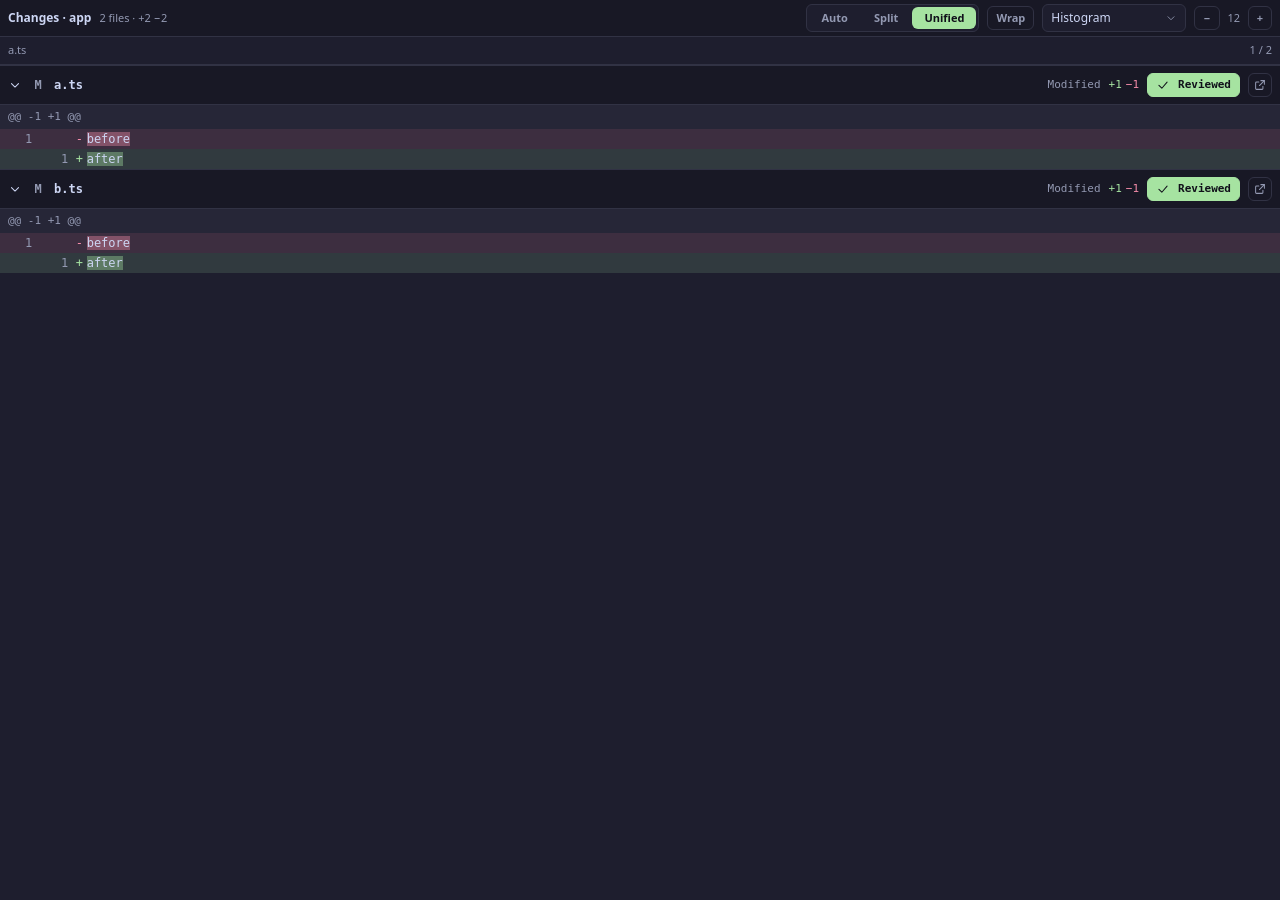
Undo › says so when Undo is no longer available
This screenshot has width=1280, height=900.
Expected: the list with test id "review-list" is shown, [0,65,1279,273]
Click the 1st button with test id "review-file-reviewed".
click(1194, 85)  # box [1147,73,1240,97]
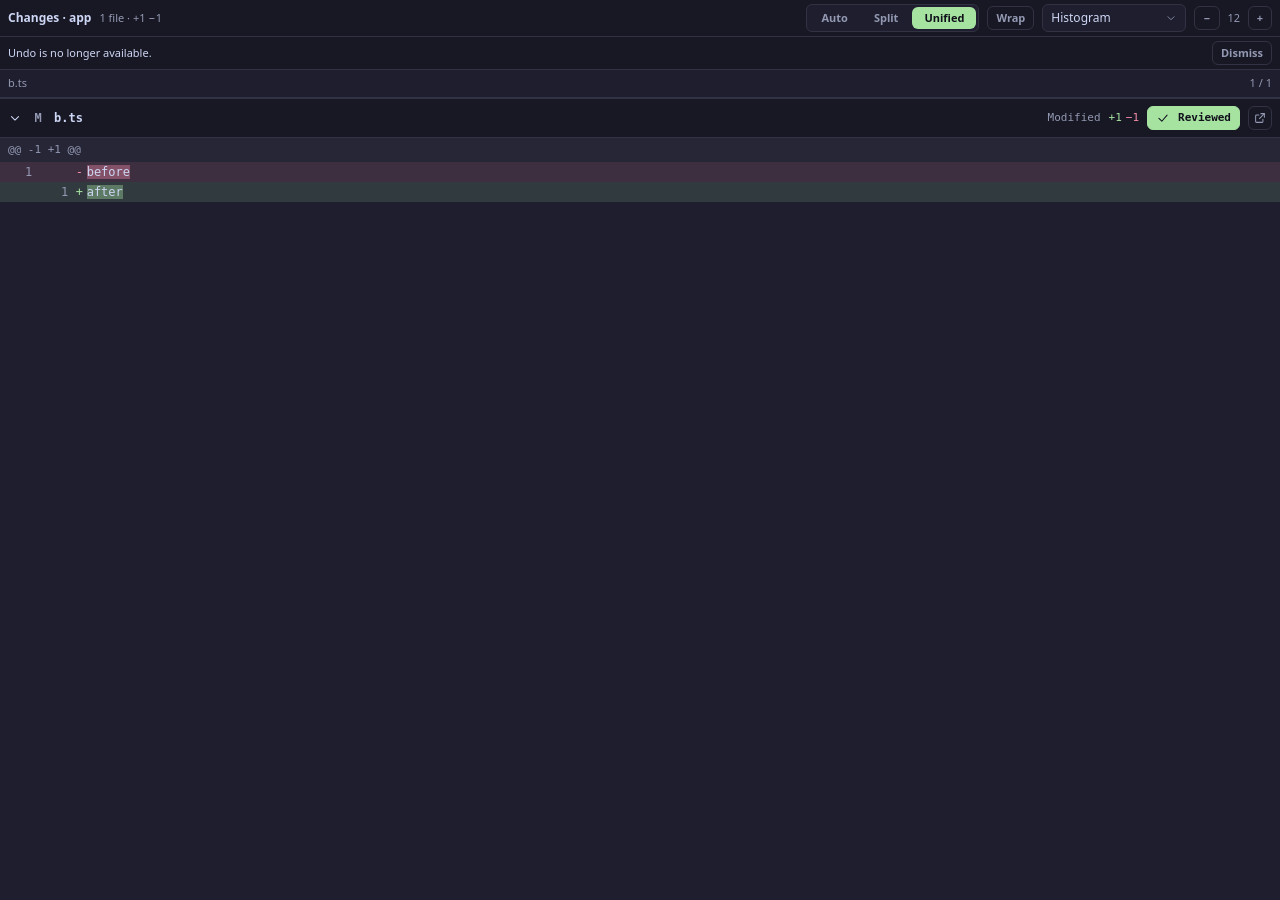
Now the message with test id "review-notice" shows "Undo is no longer available.", box [8,45,152,60]
